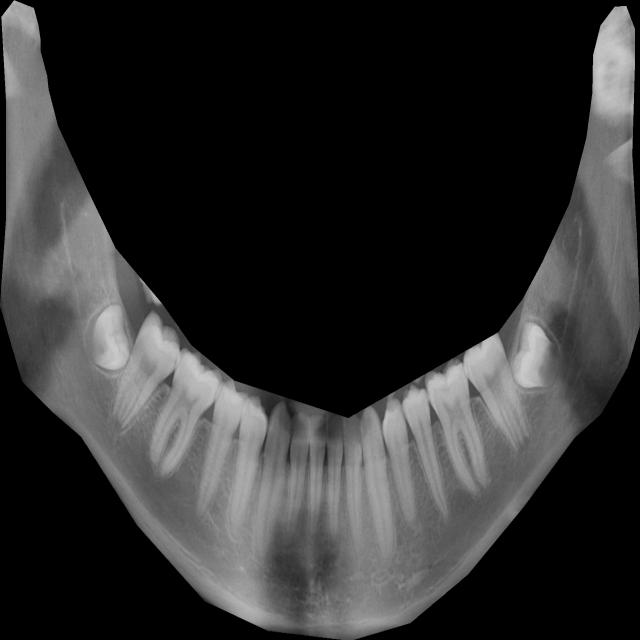mandibula: (0, 0, 640, 640)
